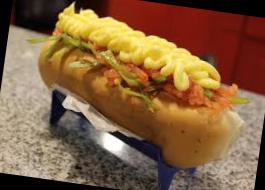Completos: (30, 0, 243, 175)
